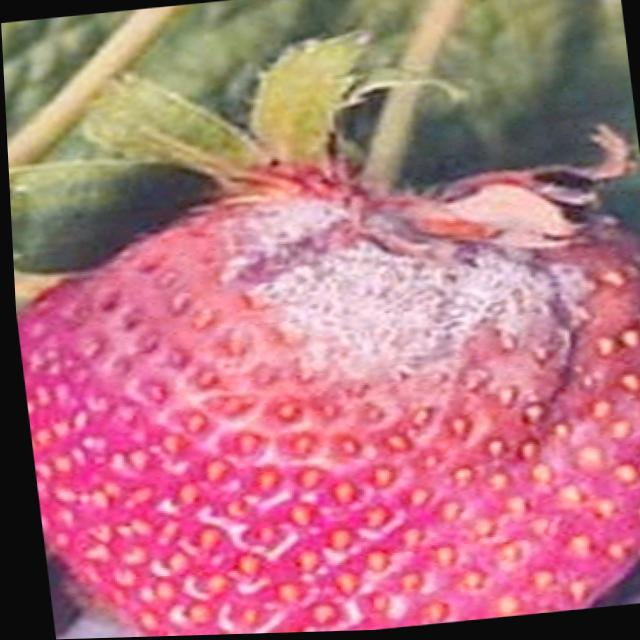Gray Mold: (56, 125, 640, 493)
